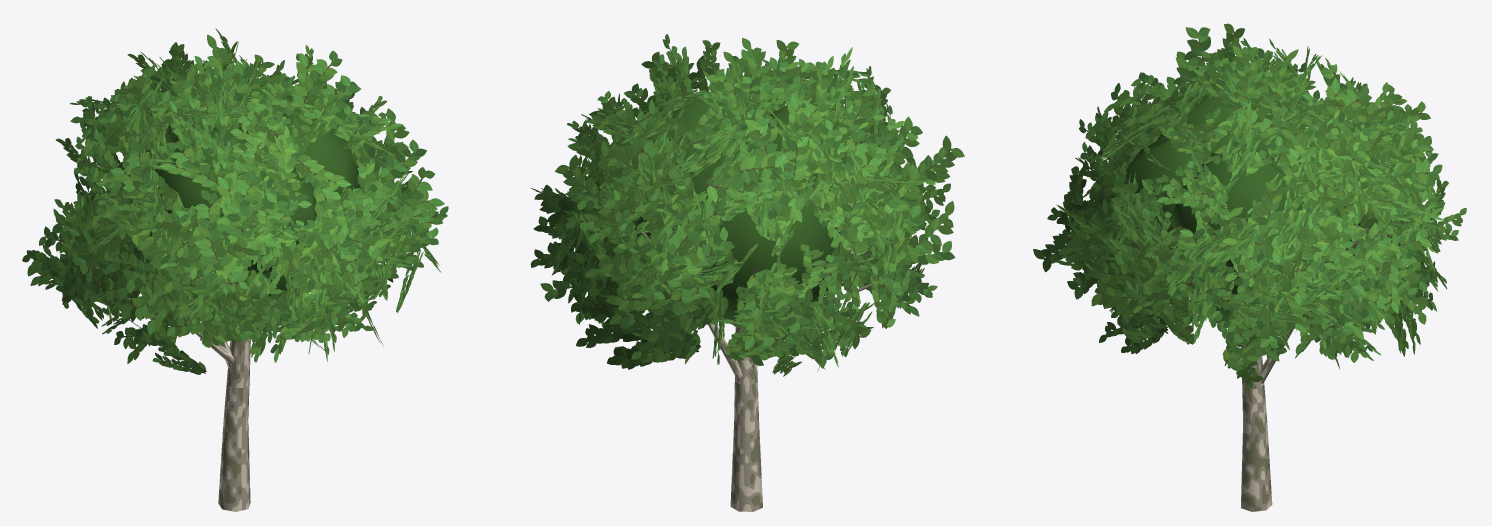
The model's file is CELTIS_1.glb.
3 views of the same model, side by side, from view 1: azimuth 30°, elevation 25°; view 2: azimuth 150°, elevation 25°; view 3: azimuth 270°, elevation 25° (orthographic).
Visible parts, largest first — view 1: Arv_CELTIS_lod1; view 2: Arv_CELTIS_lod1; view 3: Arv_CELTIS_lod1.
Part boxes in pixels (box(x1,y1,x2,y2)): Arv_CELTIS_lod1: box(22, 28, 448, 511); Arv_CELTIS_lod1: box(530, 34, 964, 511); Arv_CELTIS_lod1: box(1033, 23, 1466, 511).
Size of the model in its own units: 9.67 by 11.19 by 9.84.
3 materials, 2 textured.
